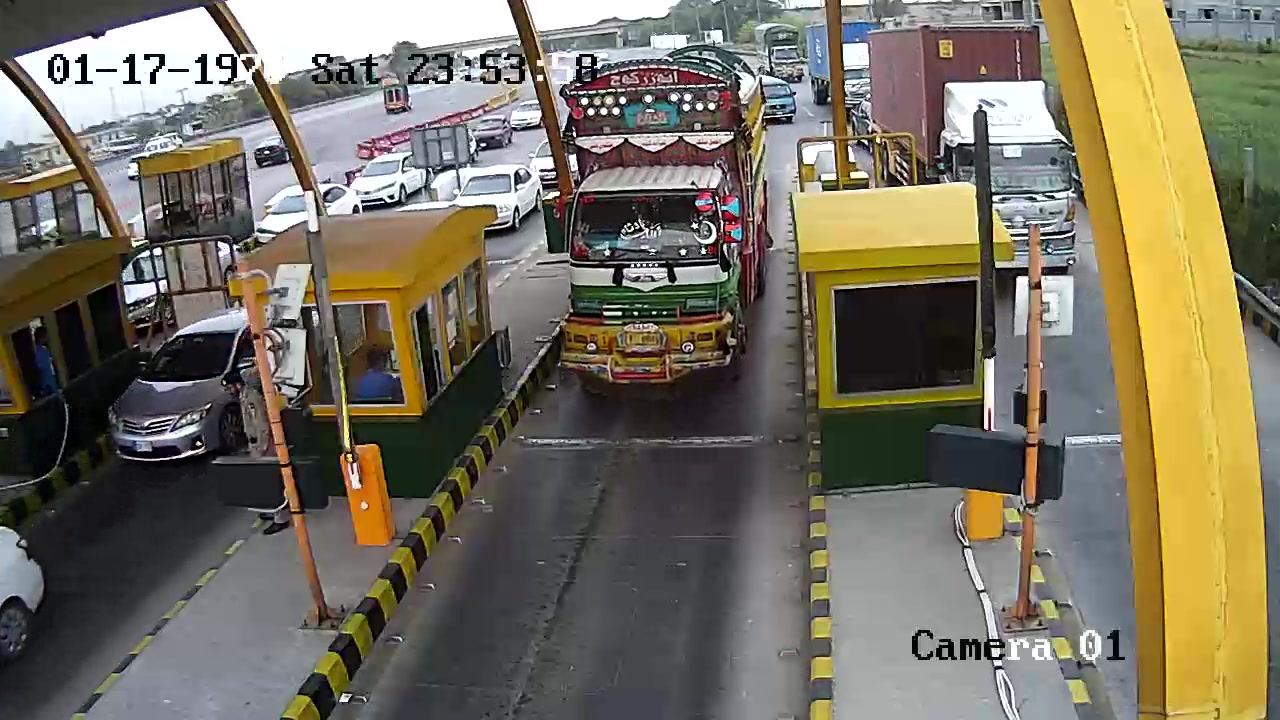F5: (554, 44, 769, 402)
